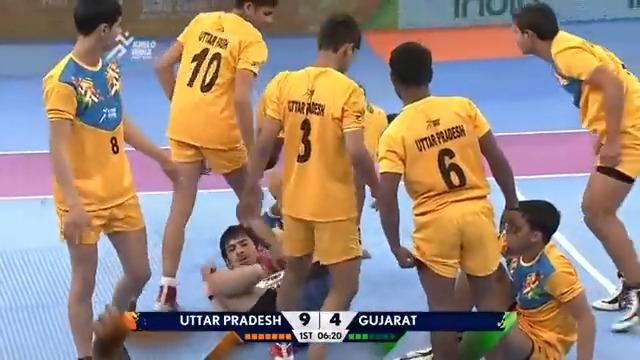Player: (235, 12, 382, 358), (41, 0, 182, 358), (375, 40, 520, 358), (152, 0, 282, 311), (482, 198, 597, 359)
referee: (509, 1, 639, 333)
